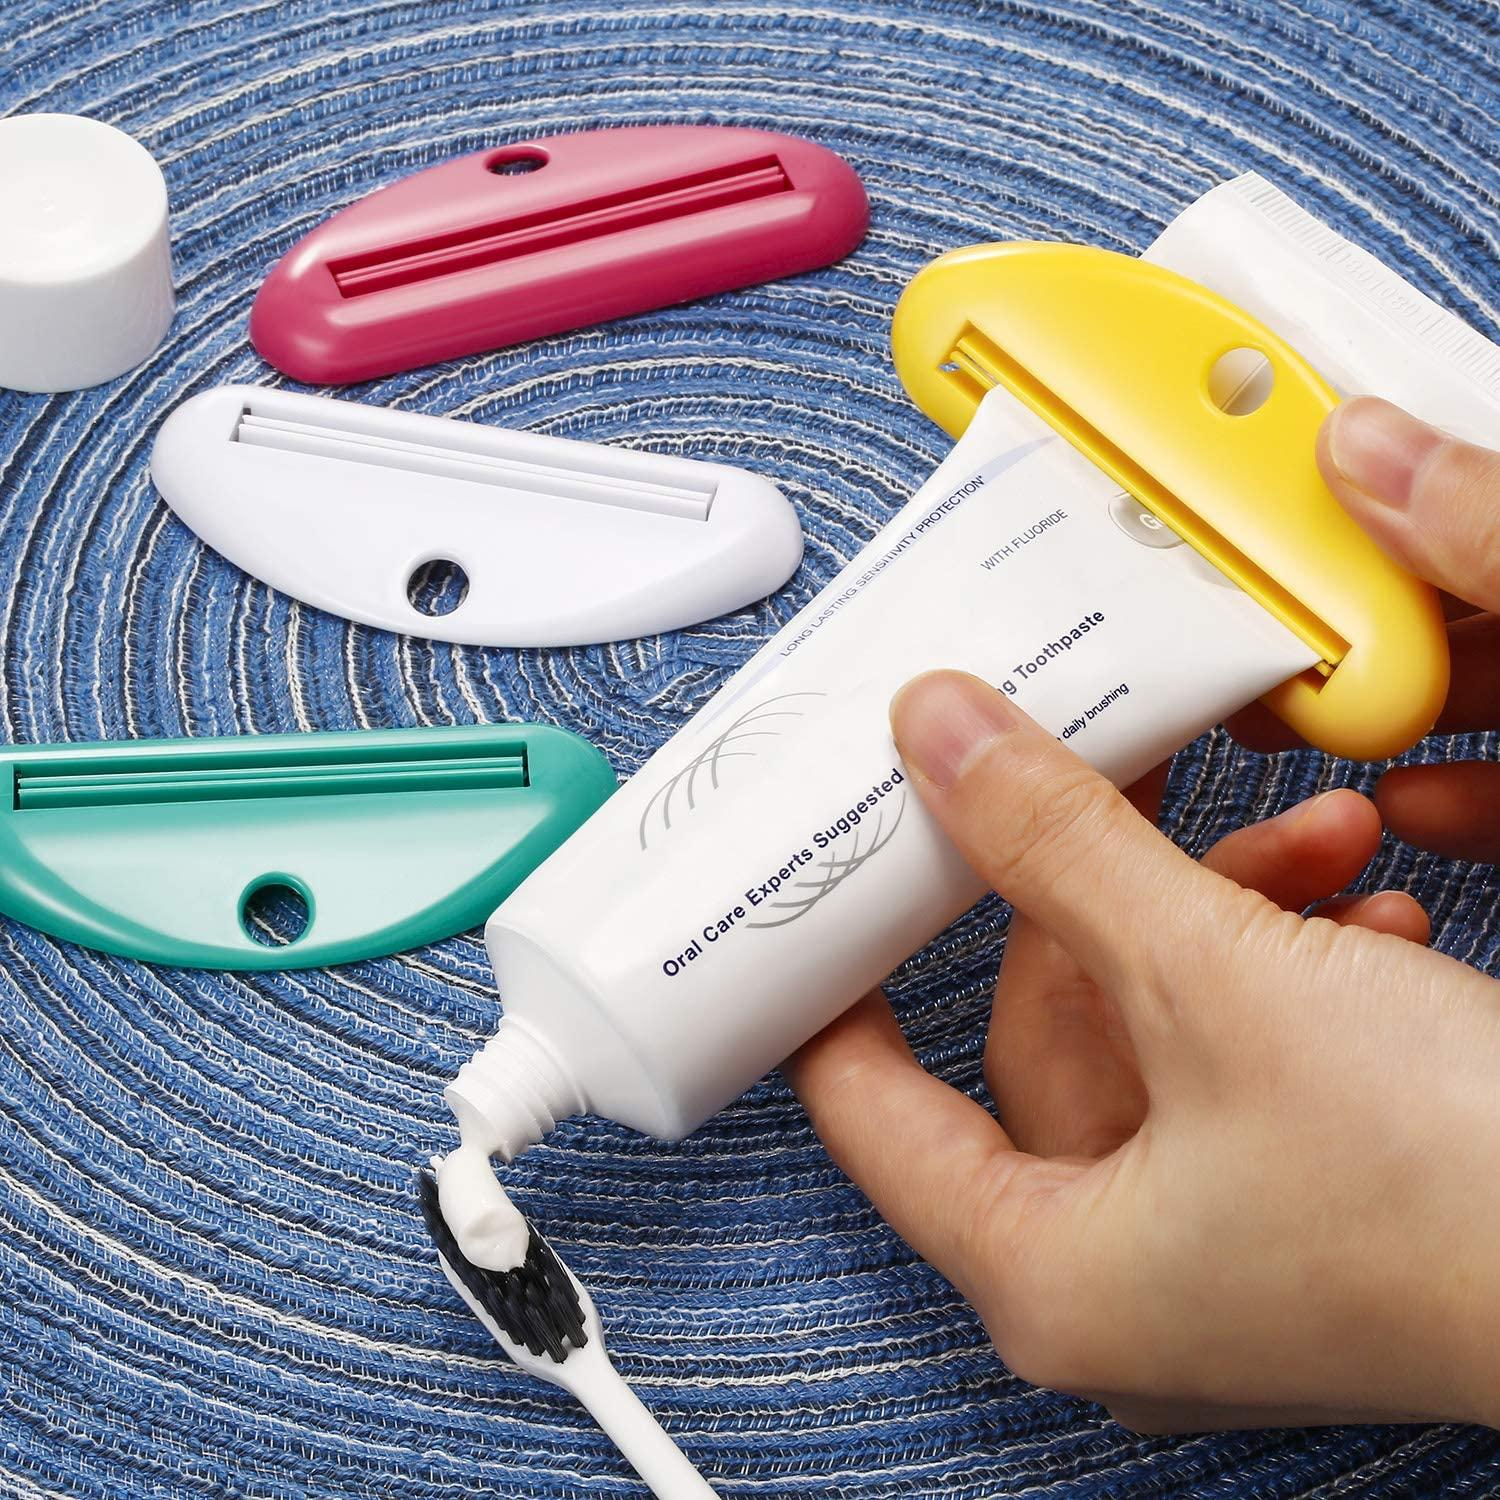toothpaste: (387, 176, 1500, 1181)
